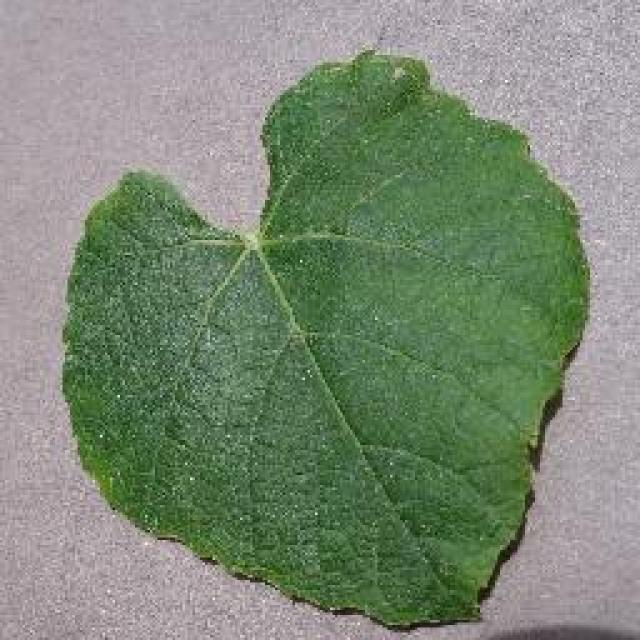Grape___healthy: (62, 50, 585, 622)
